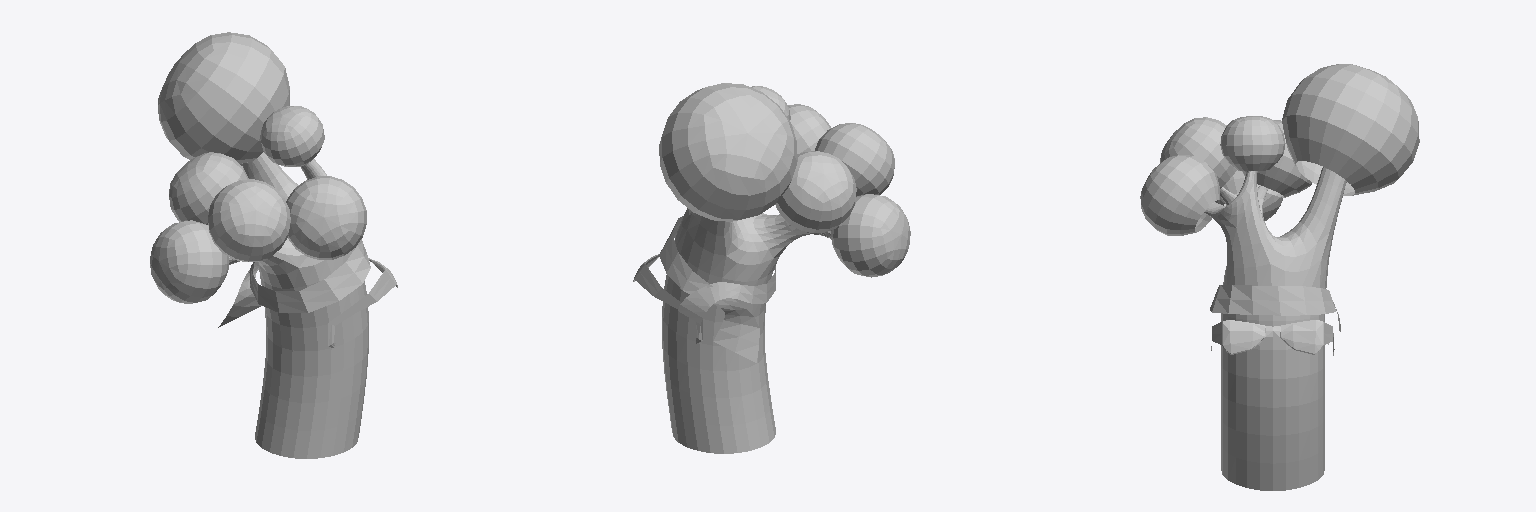
Rendered from MrGreen.obj.
3 views of the same model, side by side, from view 1: azimuth 30°, elevation 25°; view 2: azimuth 150°, elevation 25°; view 3: azimuth 270°, elevation 25° (orthographic).
Parts seen in each view (by area): view 1: Sphere004, Cylinder001, Plane002, Plane001; view 2: Sphere004, Cylinder001, Plane002, Plane001; view 3: Sphere004, Cylinder001, Plane002, Plane001.
Boxes of the visible parts, x1=… form: Sphere004: x1=150, y1=32, x2=366, y2=303; Cylinder001: x1=229, y1=152, x2=368, y2=458; Plane002: x1=218, y1=239, x2=370, y2=327; Plane001: x1=328, y1=258, x2=397, y2=348; Sphere004: x1=659, y1=83, x2=910, y2=277; Cylinder001: x1=662, y1=208, x2=830, y2=453; Plane002: x1=659, y1=216, x2=775, y2=362; Plane001: x1=633, y1=240, x2=702, y2=343; Sphere004: x1=1140, y1=64, x2=1419, y2=235; Cylinder001: x1=1204, y1=167, x2=1346, y2=490; Plane002: x1=1210, y1=285, x2=1340, y2=344; Plane001: x1=1211, y1=320, x2=1334, y2=355.
Bounding box in the file's own units: 2.8 × 4.34 × 2.89.